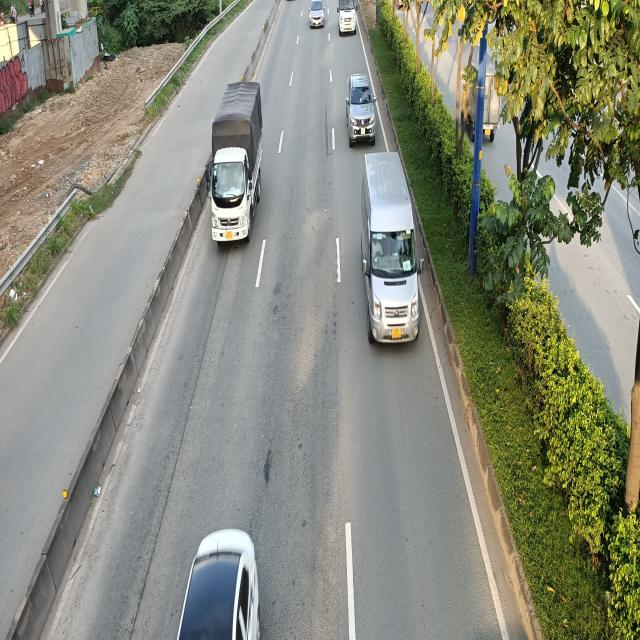car: (347, 76, 378, 150), (309, 0, 326, 27)
truck: (205, 81, 264, 247)
van: (362, 151, 424, 343)
